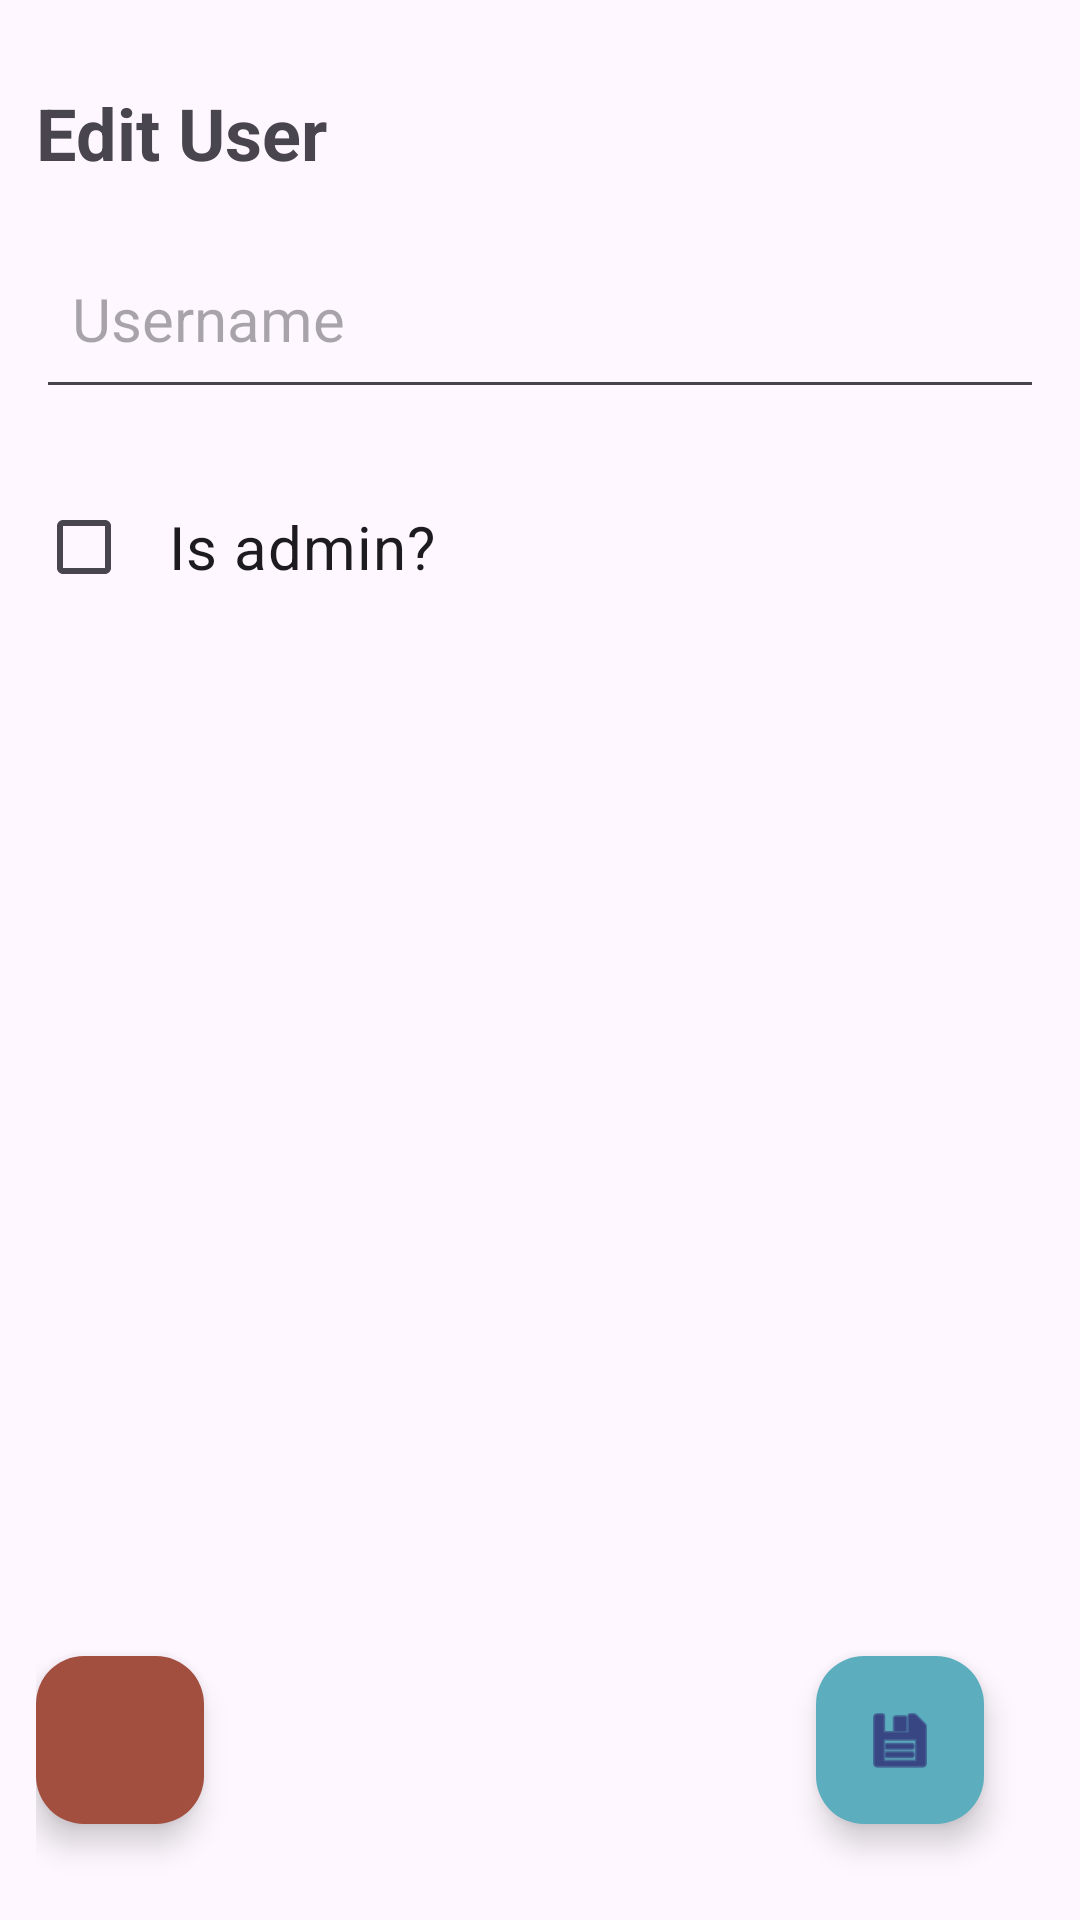

Named icons in this screenshot (1080 x 1920) and their bounding boxes, box(x1, y1, x2, y2):
save: box(816, 1656, 984, 1824)
